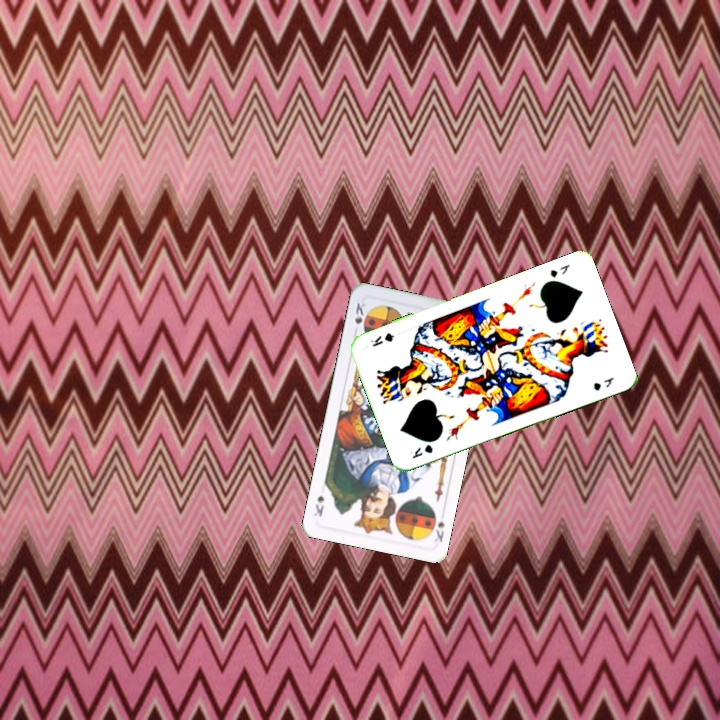GK: (408, 440, 435, 461), (546, 260, 572, 280)
SK: (350, 298, 368, 326), (430, 517, 447, 545)
